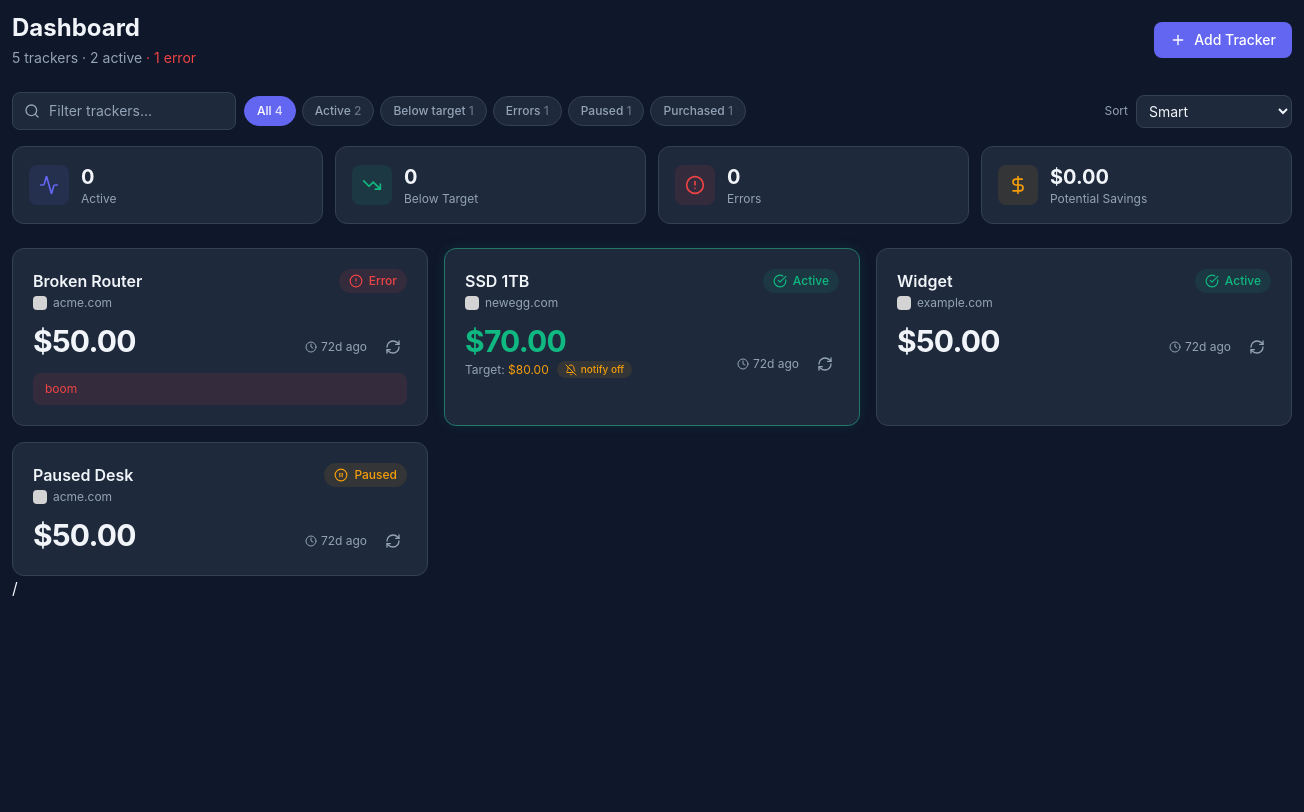
Scenario: Dashboard › toolbar › defaults delete their URL param instead of writing it
Expected: the heading "Dashboard" is shown, [12,13,140,42]
// Non-default filter → param written.
Click the button "Errors 1" at x=527, y=111, box [493,96,562,126]
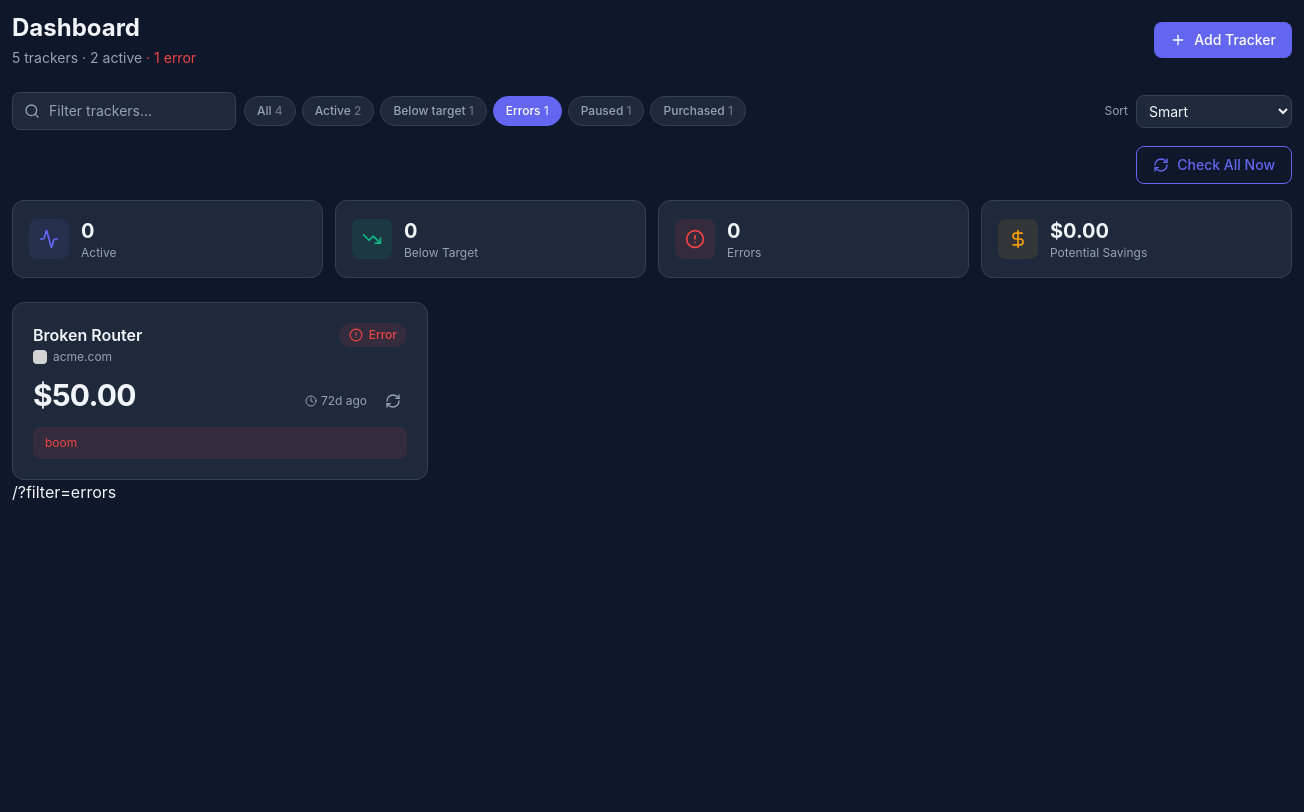
Now the text with test id "location-probe" shows "filter=errors", box [18,482,116,502]
// Back to the default filter ('all') → param removed, not set to 'all'.
Click the button "All 4" at x=270, y=111, box [244,96,296,126]
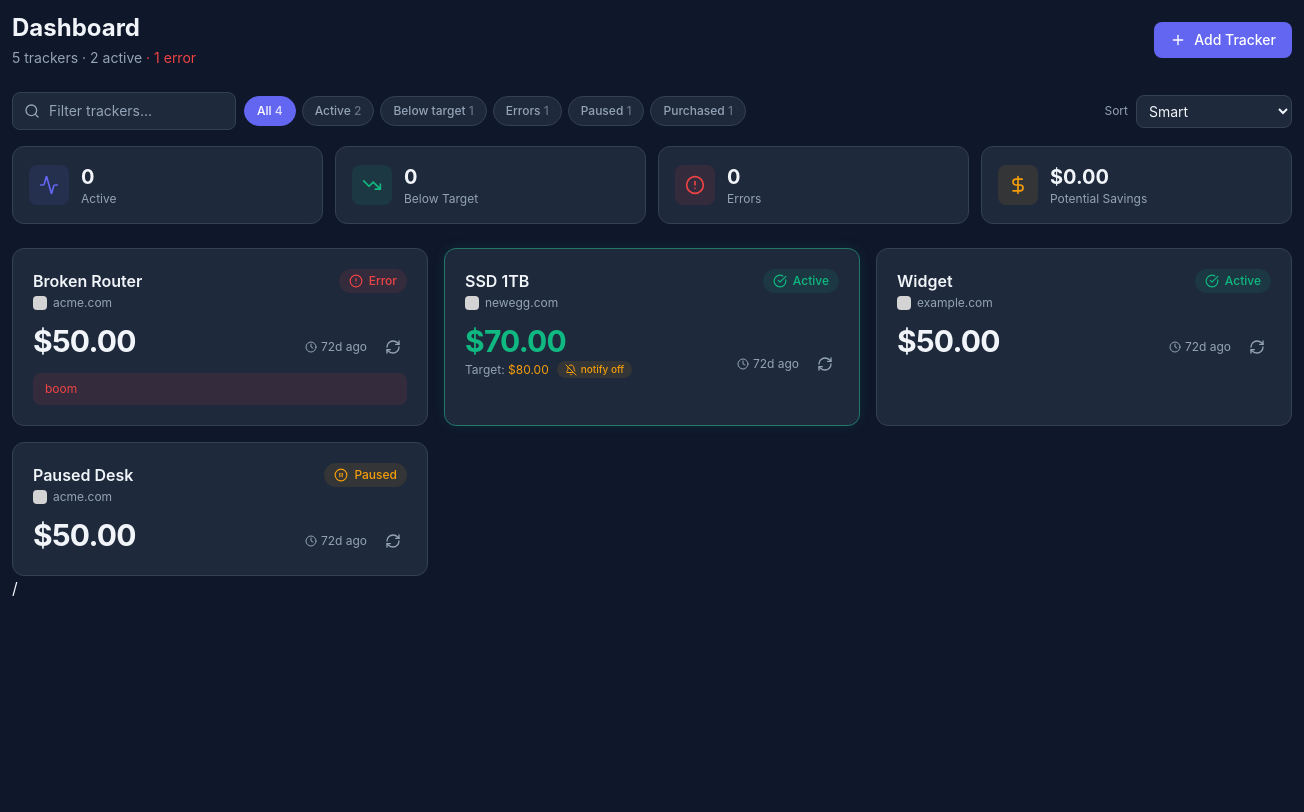
Now the text with test id "location-probe" no longer shows "filter=", box [12,578,18,598]
// Same contract for sort: non-default writes, default ('smart') deletes.
Select "Price" in the dropdown labelled "Sort" at x=1214, y=111, box [1136,94,1292,128]
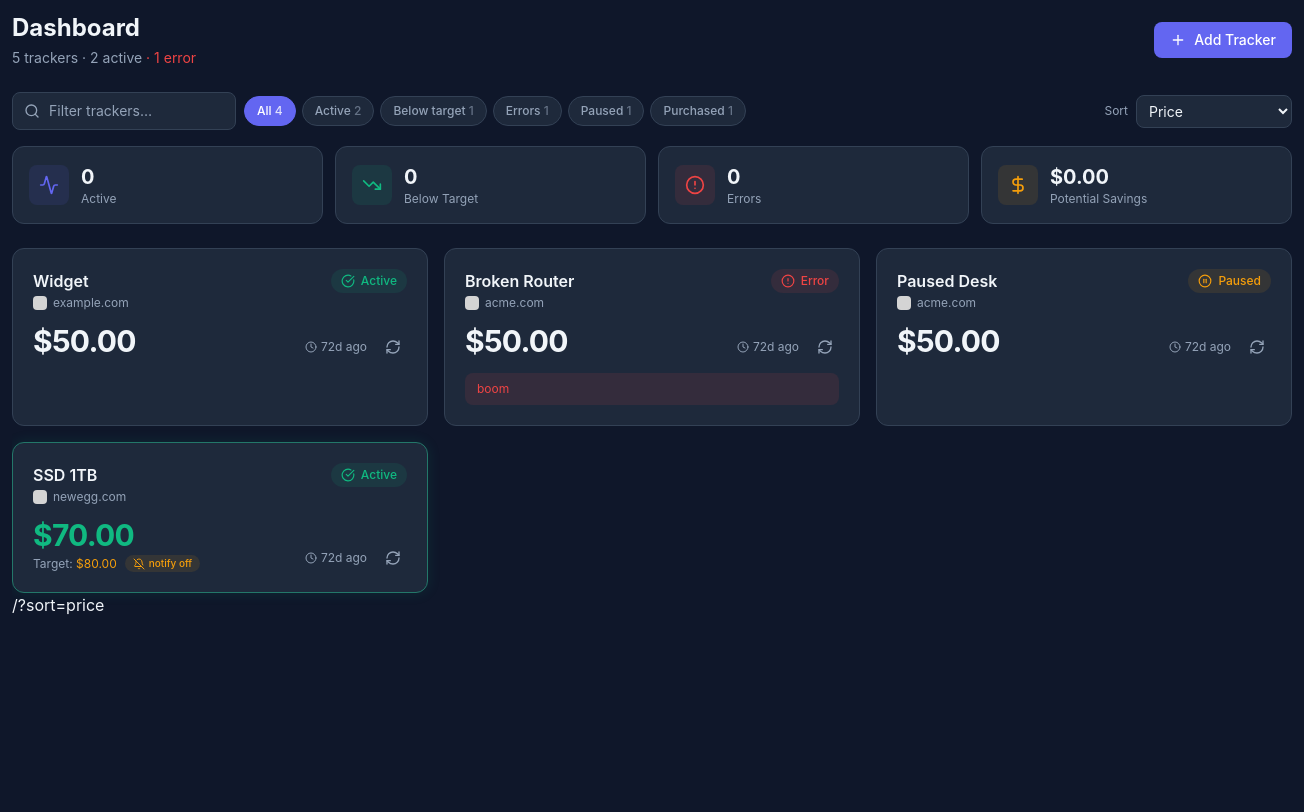
Now the text with test id "location-probe" shows "sort=price", box [18,595,104,615]
Select "Smart" in the dropdown labelled "Sort" at x=1214, y=111, box [1136,94,1292,128]
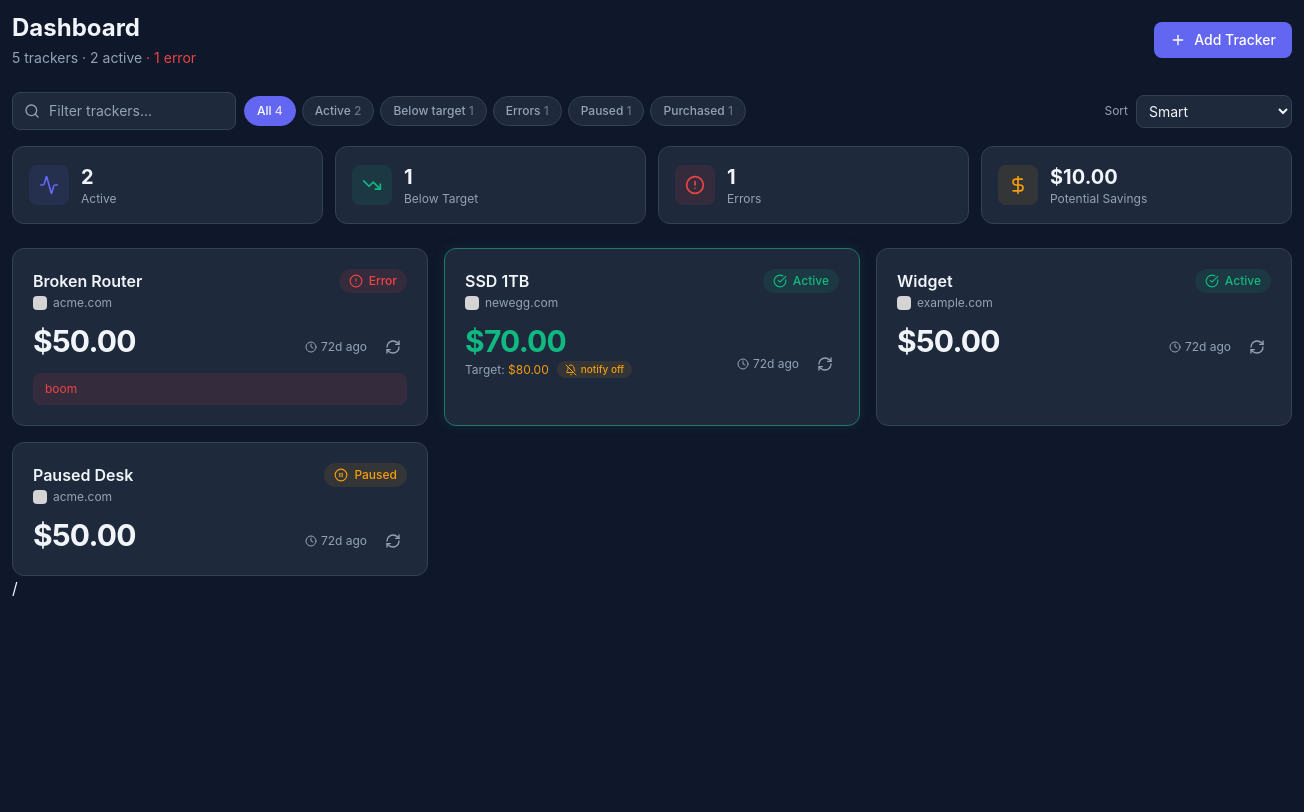
Now the text with test id "location-probe" no longer shows "sort=", box [12,578,18,598]
